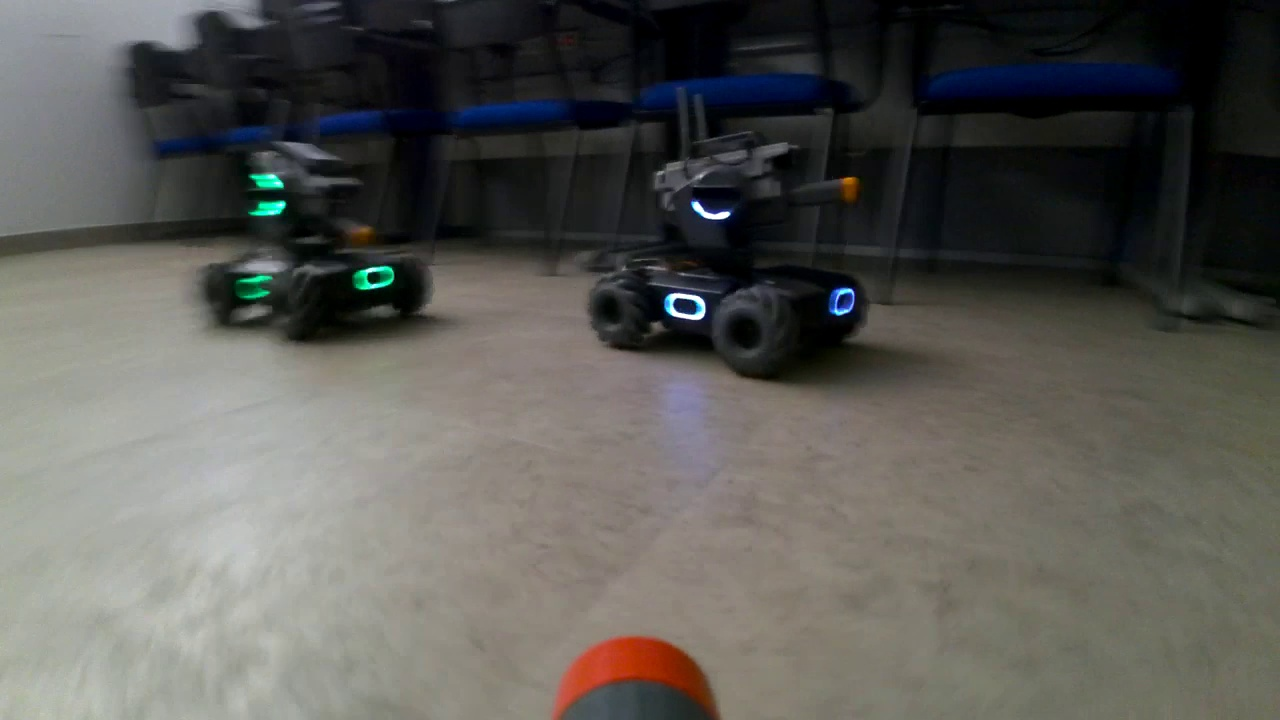robot: (588, 83, 873, 380), (207, 104, 435, 340)
